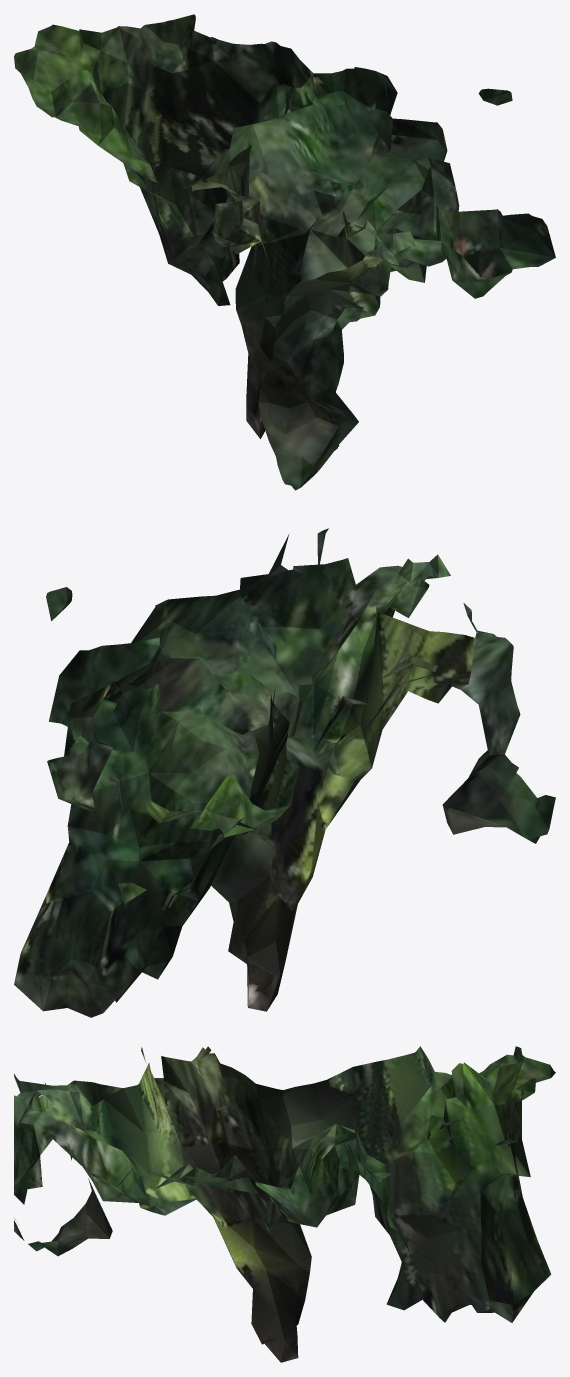
3 views of the same model, one above another, from view 1: azimuth 30°, elevation 25°; view 2: azimuth 150°, elevation 25°; view 3: azimuth 270°, elevation 25° (orthographic). The views are drawn at different scales.
Size of the model in its own units: 13.13 by 11.6 by 21.13.
2 materials, 2 textured.
